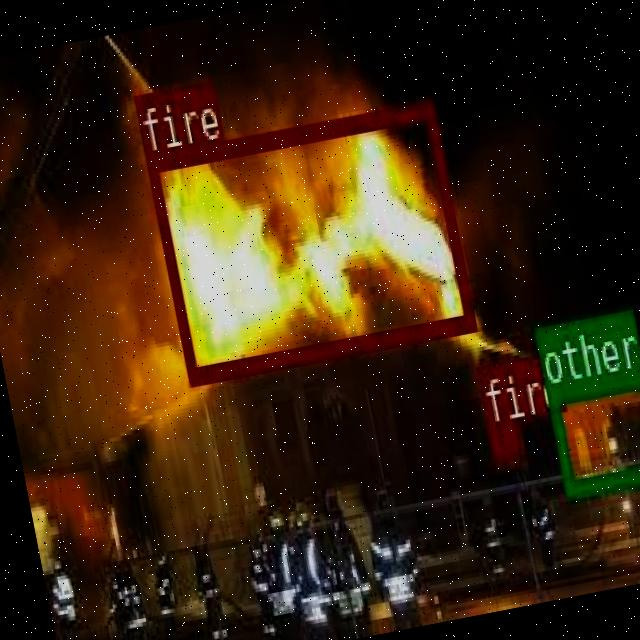fire: (144, 97, 474, 383), (487, 420, 520, 460)
